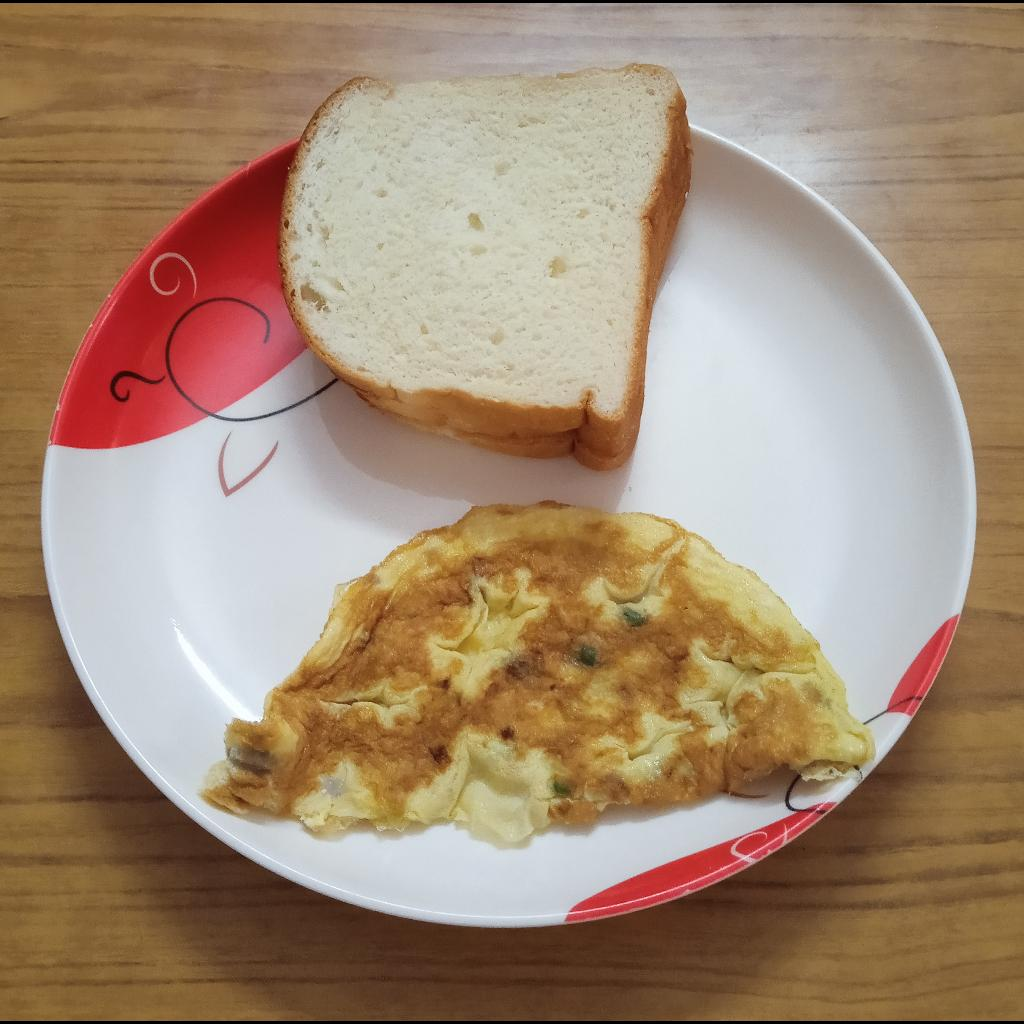bread: (278, 60, 694, 473)
egg-poached: (201, 500, 877, 844)
